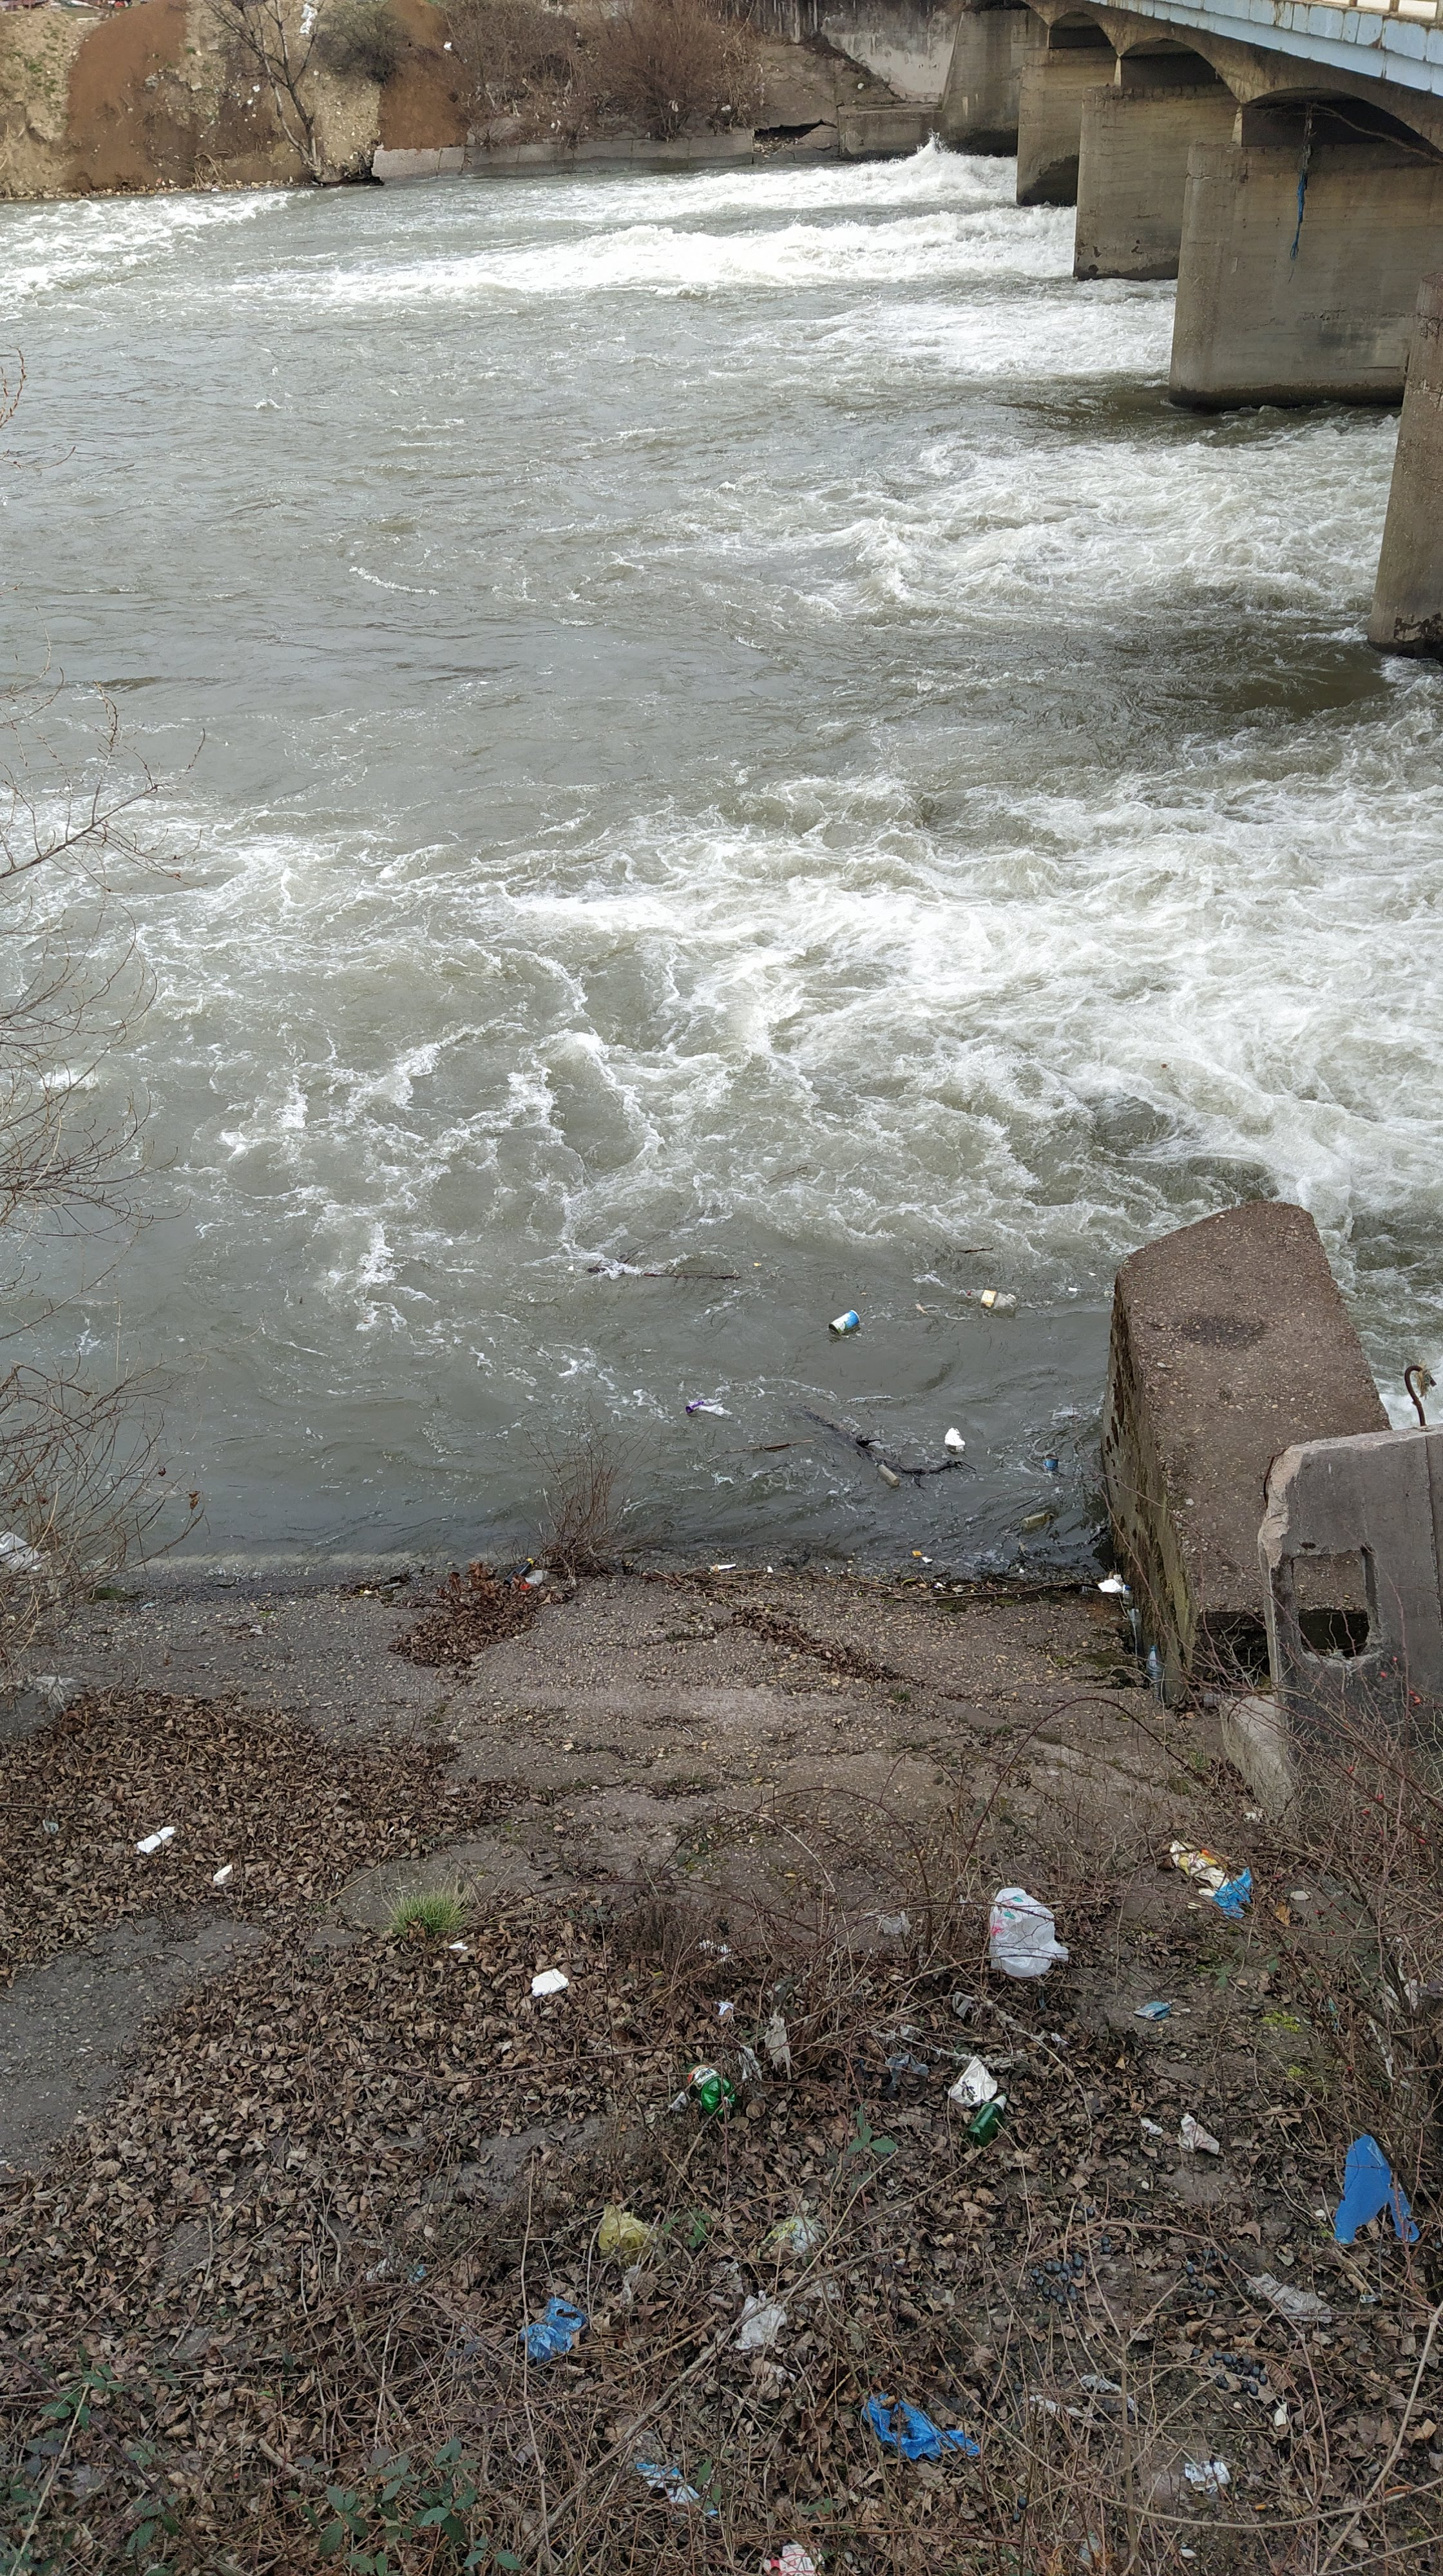Plastic Bottle: (967, 1288, 1015, 1309), (876, 1463, 899, 1484), (1022, 1513, 1052, 1527), (685, 1399, 703, 1414)
